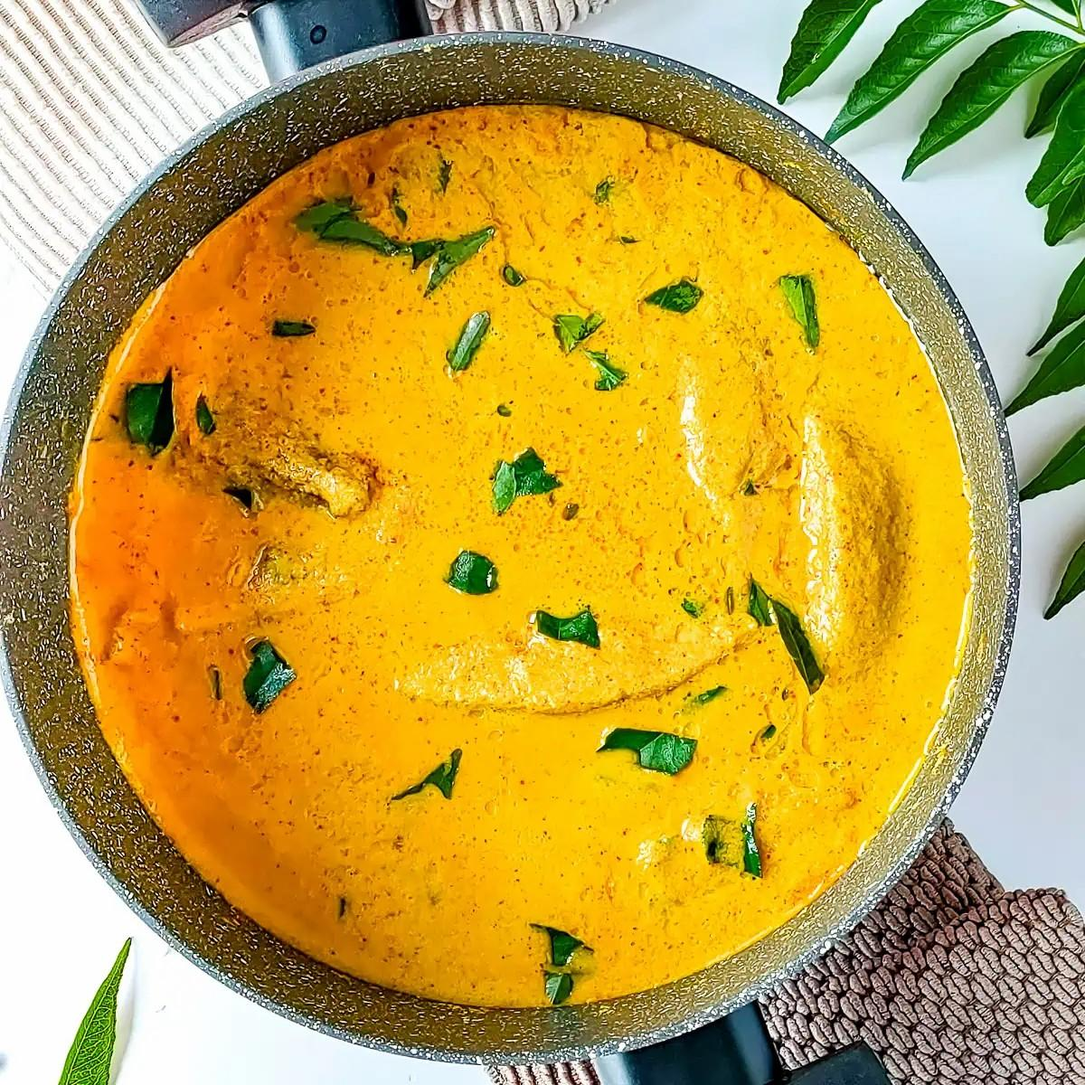FishCurry: (71, 111, 974, 1012)
